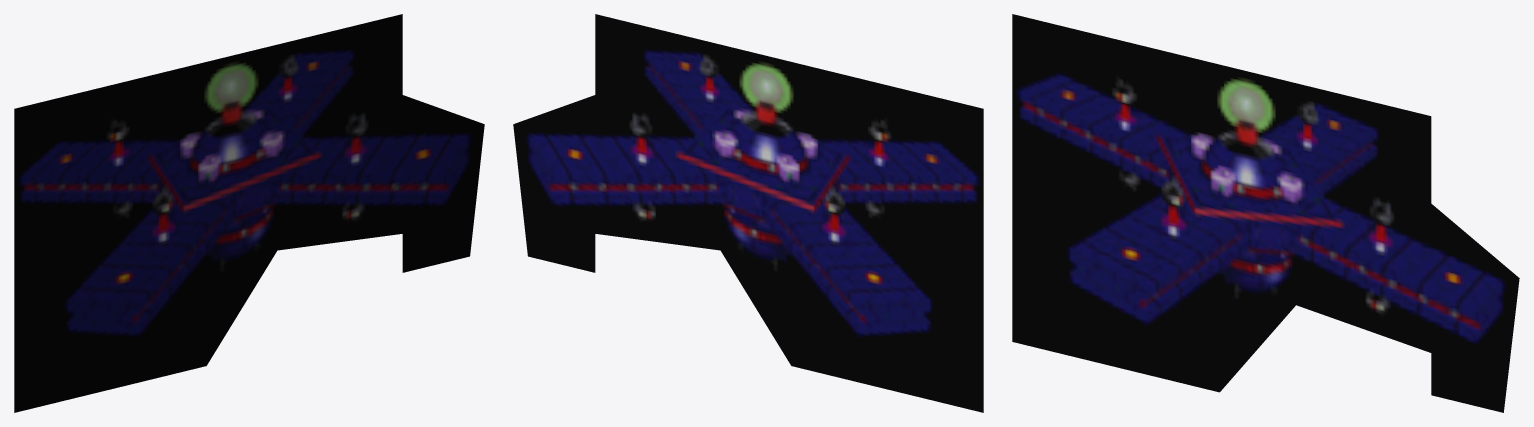
The picture shows the model from 3 angles, left to right: view 1: azimuth 30°, elevation 25°; view 2: azimuth 150°, elevation 25°; view 3: azimuth 330°, elevation 25°; orthographic projection. The views are drawn at different scales.
Visible parts, largest first — view 1: Joint_0_Object_0; view 2: Joint_0_Object_0; view 3: Joint_0_Object_0.
Boxes of the visible parts, <box> form: Joint_0_Object_0: <box>14,14,484,412</box>; Joint_0_Object_0: <box>513,14,983,412</box>; Joint_0_Object_0: <box>1012,14,1519,412</box>.
Bounding box in the file's own units: 154 × 95 × 0.
Materials: 1 (1 with a texture image).
